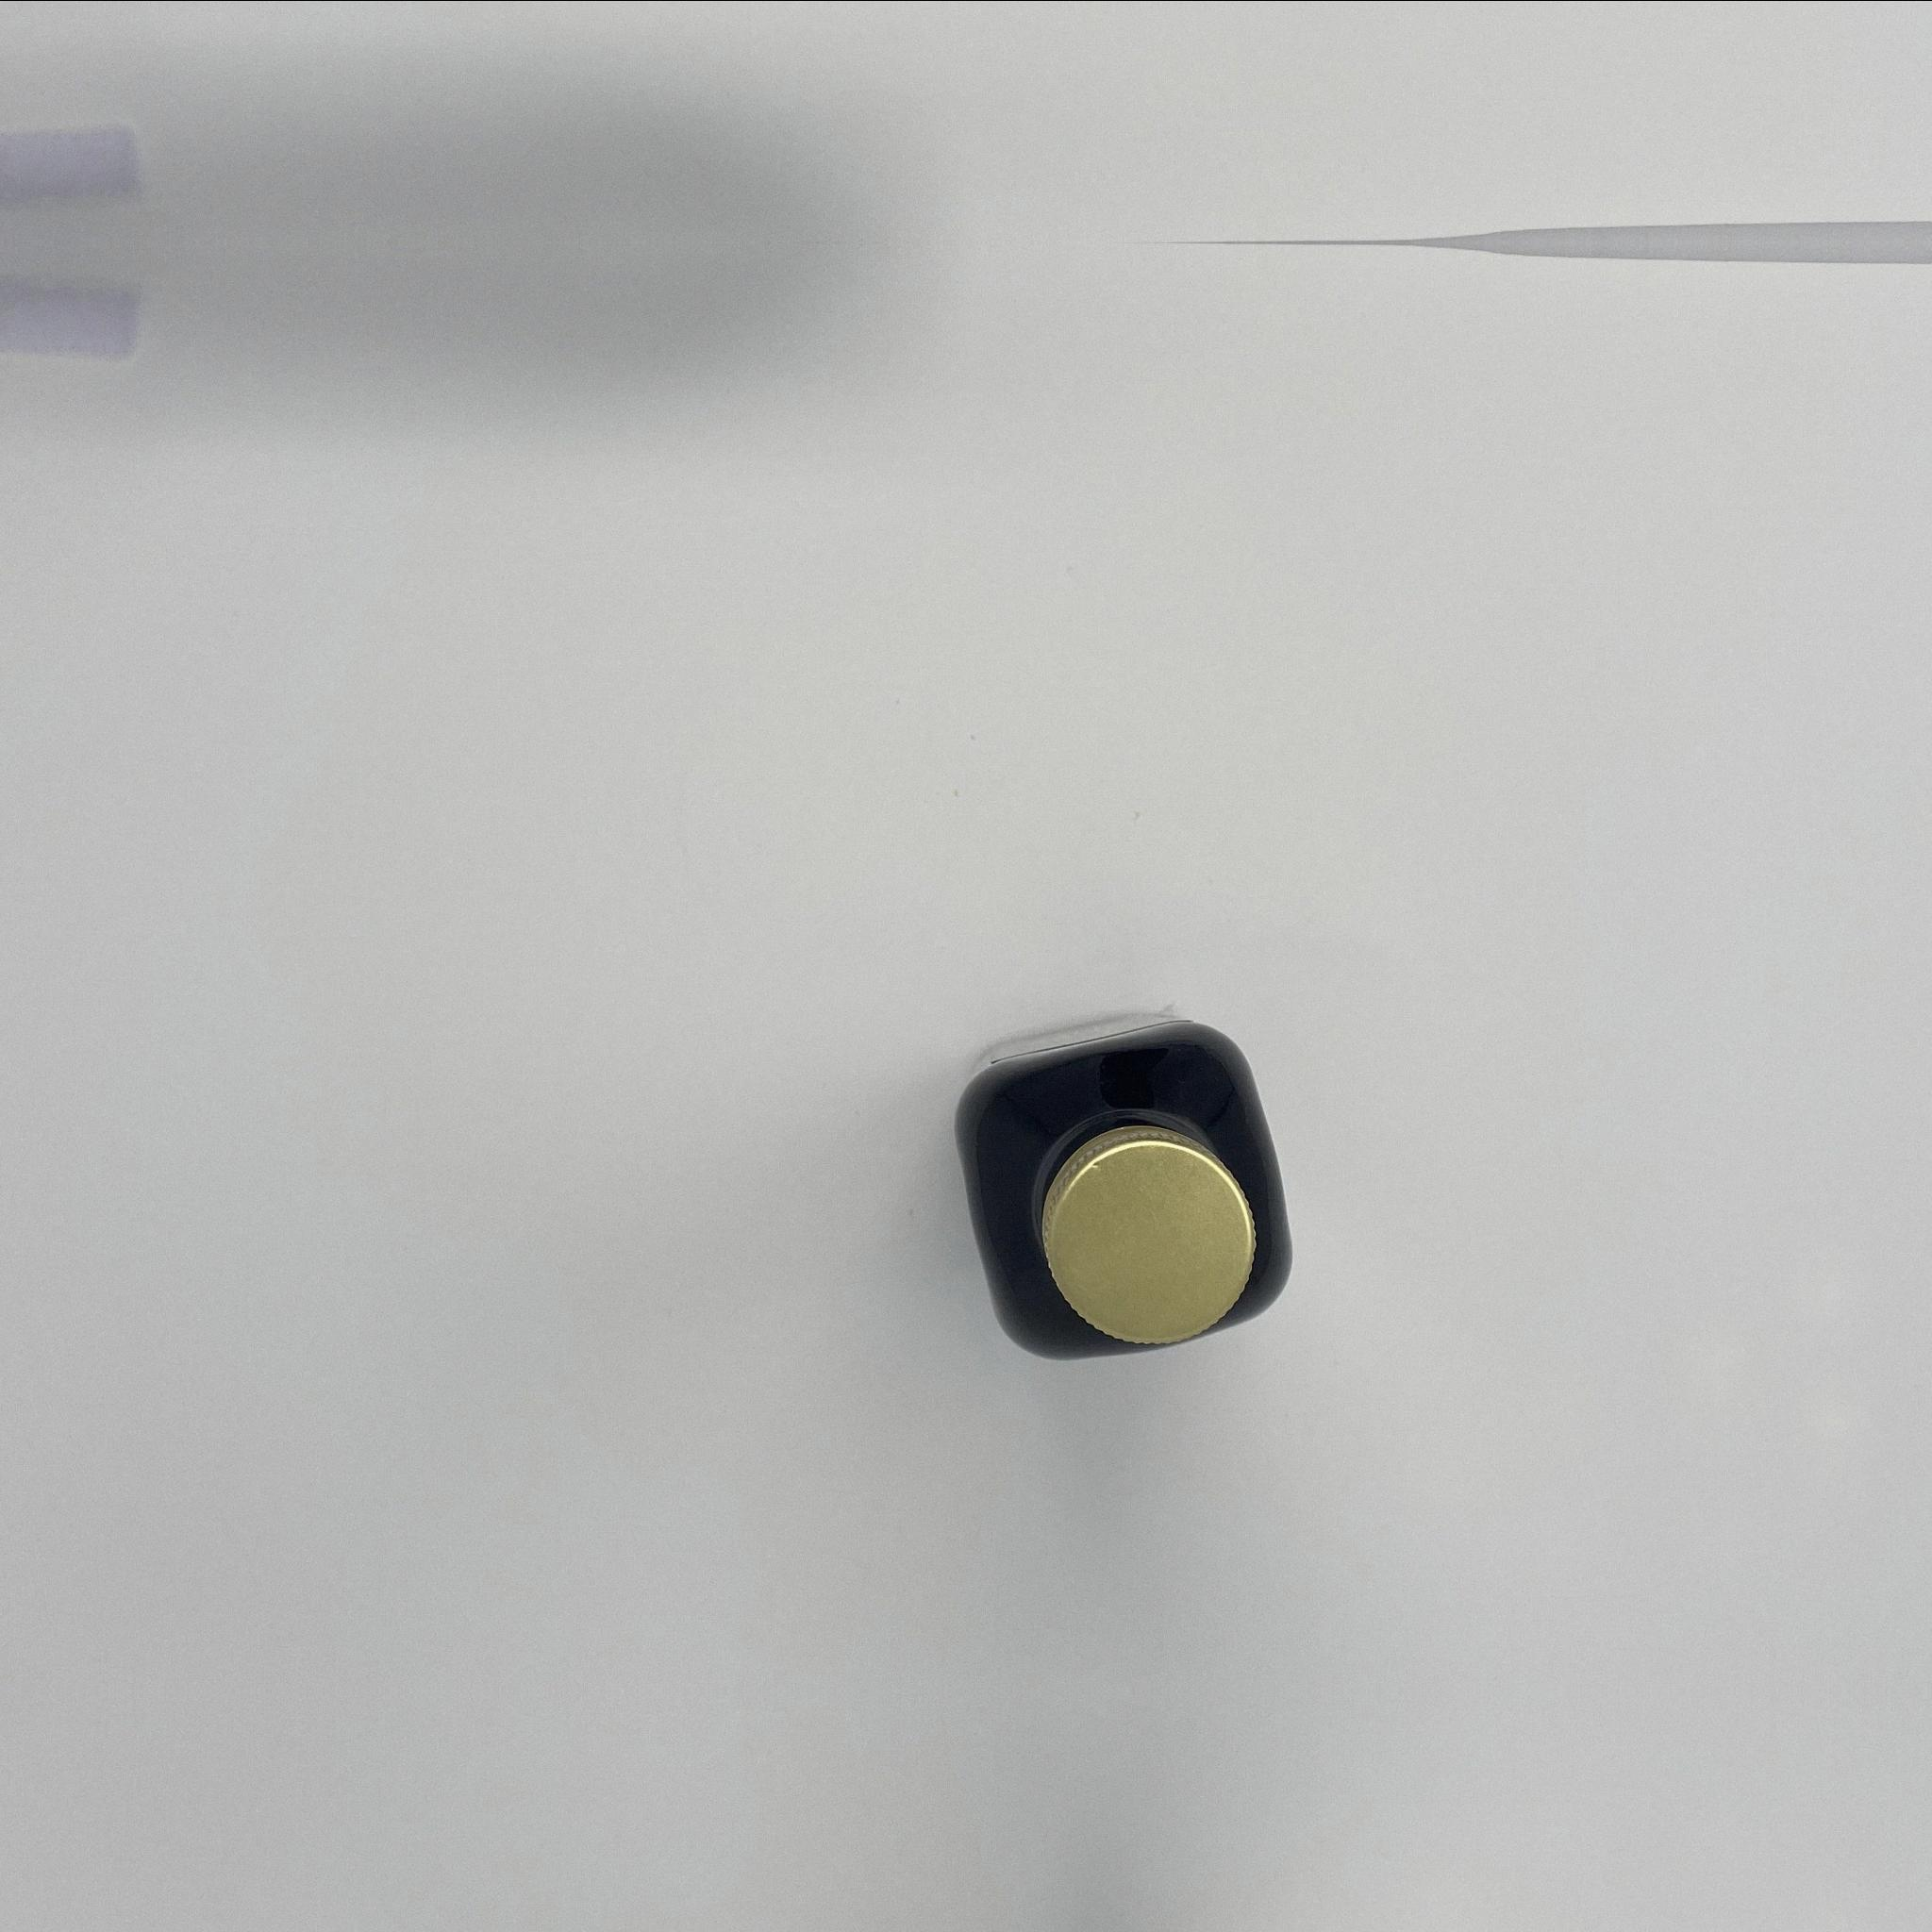glass: (950, 1017, 1288, 1362)
oil: (950, 1017, 1288, 1362)
sodocalcique: (950, 1017, 1288, 1362)
